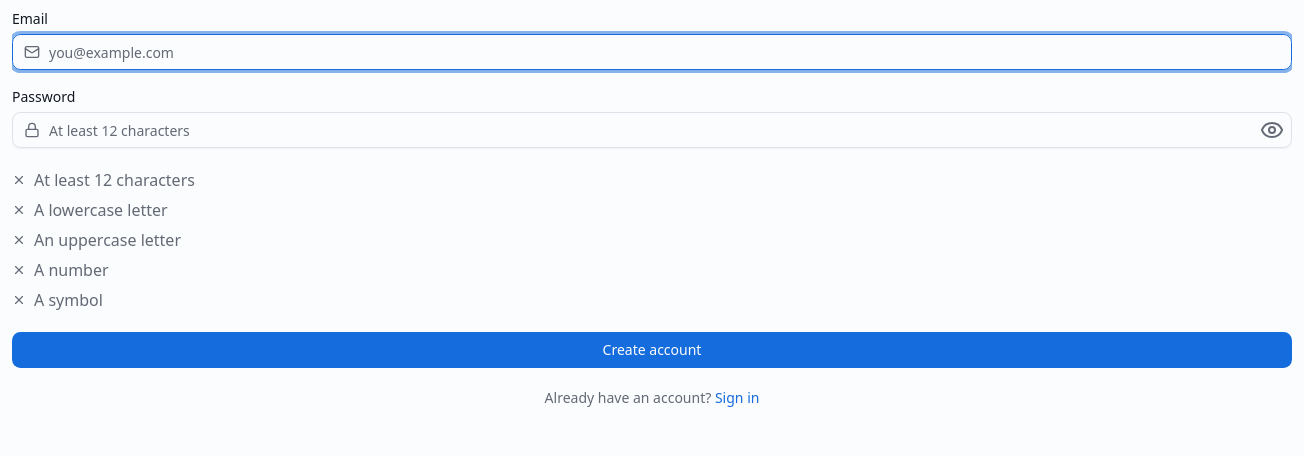
Test case: RegisterForm › blocks an empty email before the network round trip
Type "DemoPass123!" into the password field labelled "Password".
click(652, 130); type("DemoPass123!")  # box [12,112,1292,148]
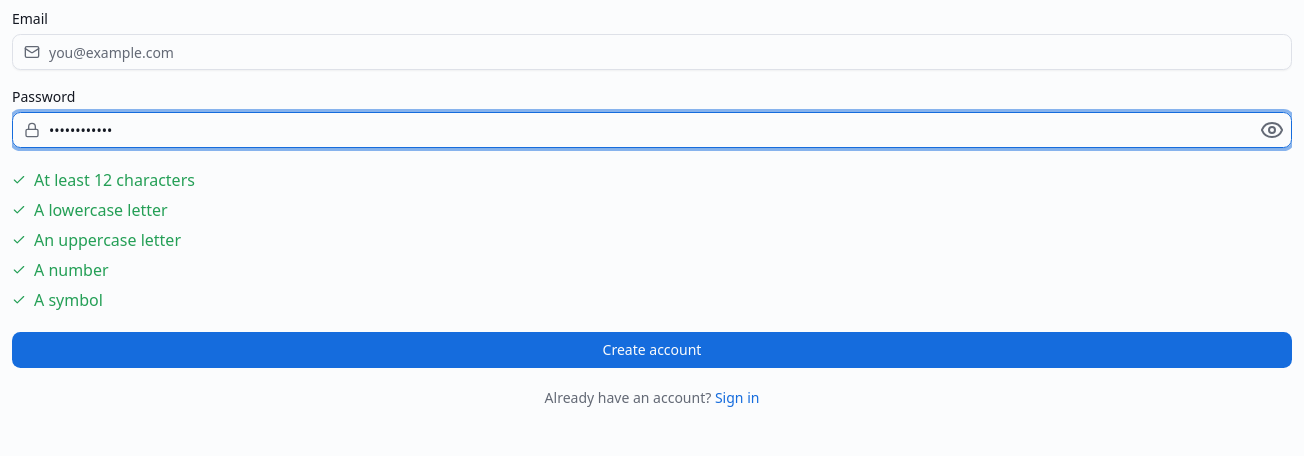
Click the button "Create account".
click(652, 350)  # box [12,332,1292,368]
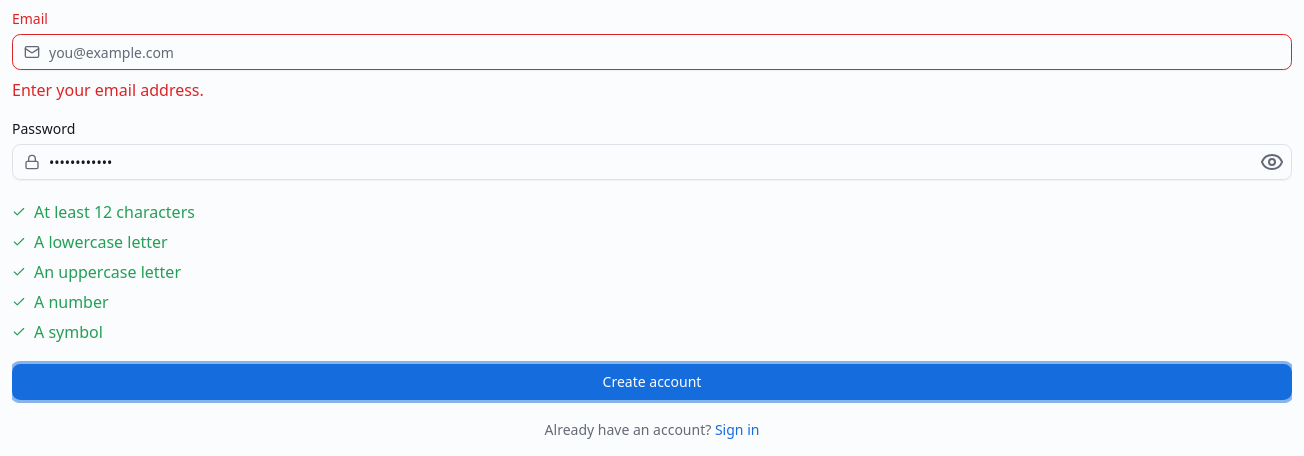
Now the text "Enter your email address." is shown, box [12,79,204,101]
